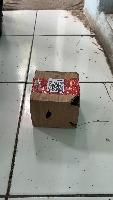damaged package: (67, 91, 80, 108), (41, 108, 54, 121), (69, 119, 78, 128)
undamaged: (25, 69, 81, 132)
